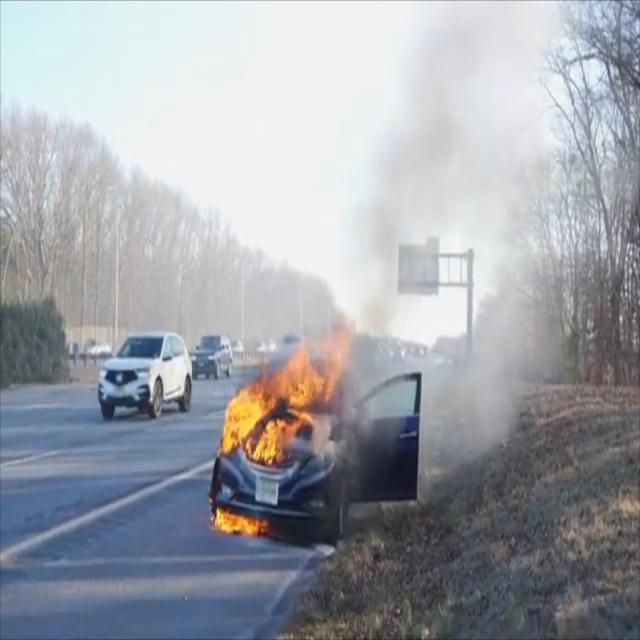fire: (207, 319, 368, 541)
